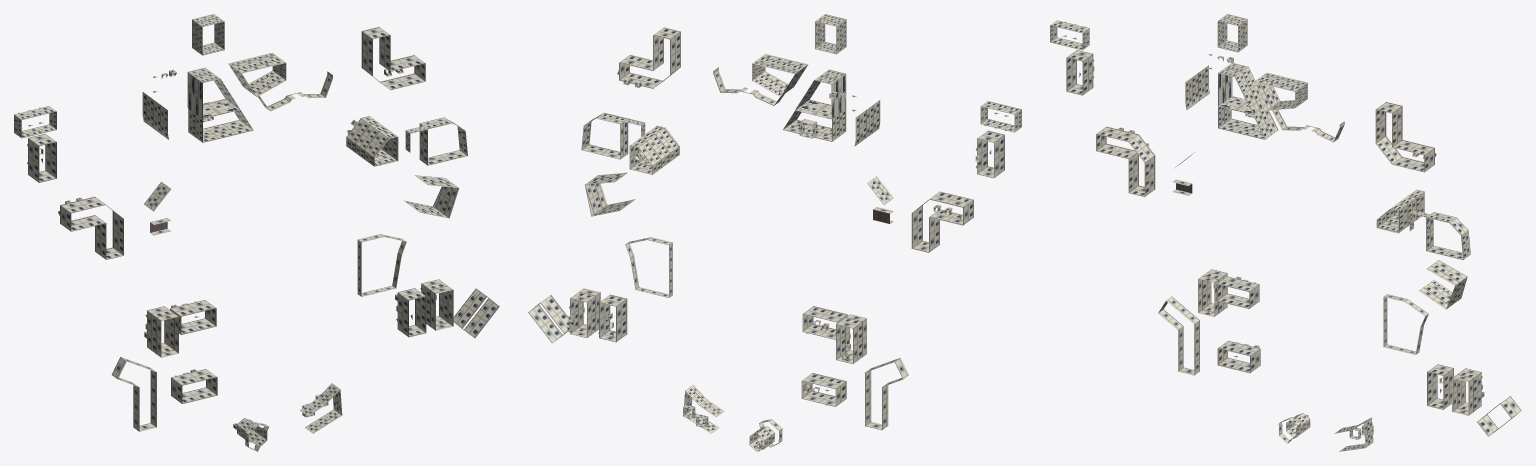
Rendered from polygon571.obj.
3 renders of one model, left to right at view 1: azimuth 30°, elevation 25°; view 2: azimuth 150°, elevation 25°; view 3: azimuth 330°, elevation 25°, orthographic. The views are drawn at different scales.
Parts seen in each view (by area): view 1: polygon571; view 2: polygon571; view 3: polygon571.
Part boxes in pixels (bbox=[...]): polygon571: bbox=[14, 14, 499, 451]; polygon571: bbox=[528, 14, 1021, 451]; polygon571: bbox=[1050, 14, 1521, 451].
Bounding box in the file's own units: 2778 × 2437 × 318.
1 material, 1 textured.
